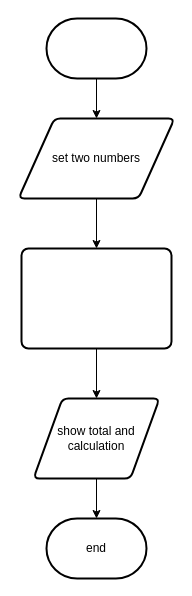
The diagram is 192 pixels wide and 596 high, and some of its shapes have lost their labels. The centre of each missing label's shape, as x and y in pixels:
first + second = total: the point at 96,298
start: the point at 96,48
